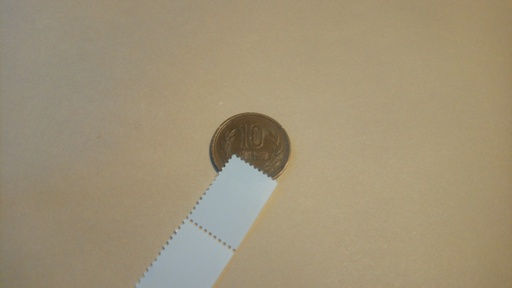10yen: (209, 112, 290, 186)
